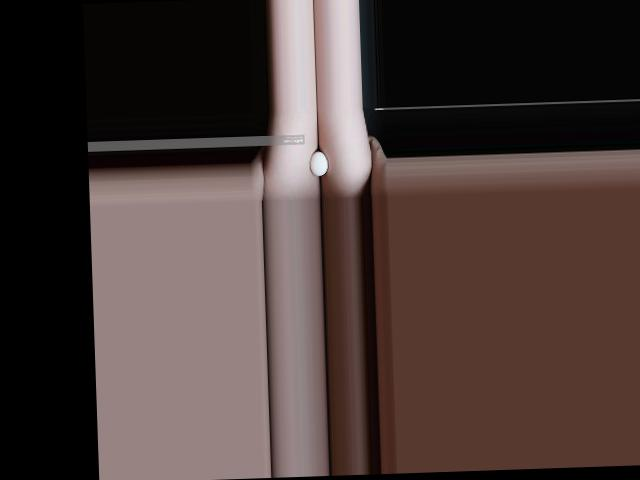egg: (309, 150, 327, 175)
